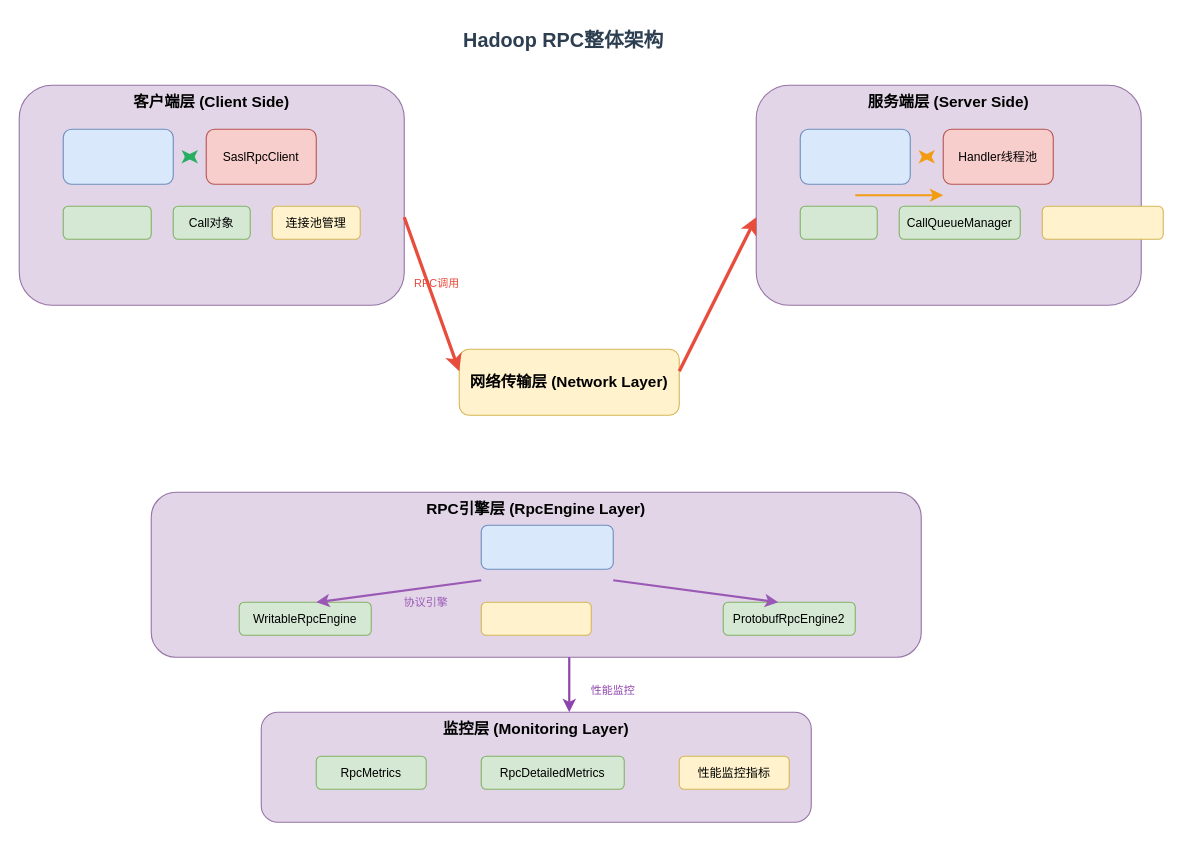
Image size: 1183x842. Some labels were removed from this diagram. Here are the shapes that lost their labels. From the top down, the centre of each, then its label:
(x=117, y=156): Client
(x=854, y=156): Server
(x=106, y=222): ConnectionId
(x=838, y=222): Listener
(x=1102, y=222): ConnectionManager
(x=546, y=546): RpcEngine接口
(x=535, y=618): RPC.RpcKind
